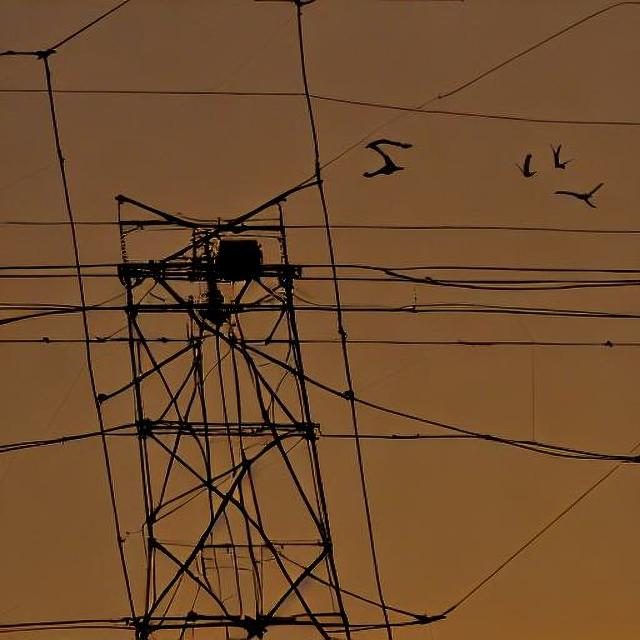floating object: (358, 138, 418, 180), (550, 180, 606, 210), (548, 141, 578, 171), (515, 151, 540, 180)
